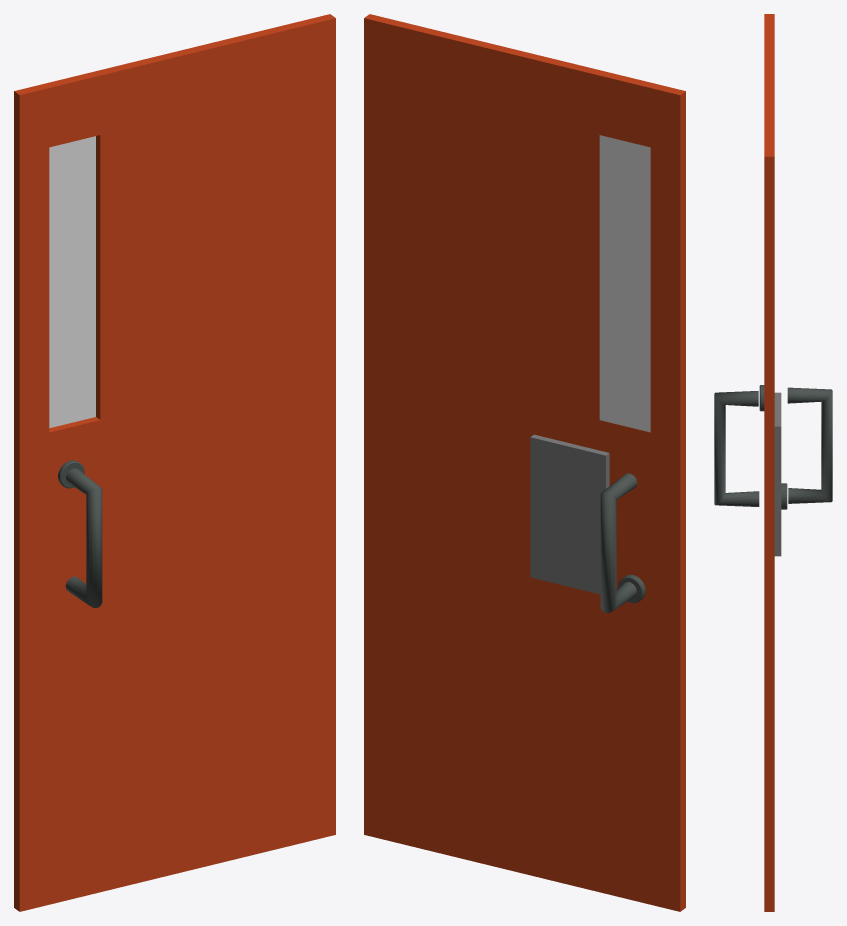
Rendered from EntryDoorLeft.fbx.
3 renders of one model, left to right at view 1: azimuth 30°, elevation 25°; view 2: azimuth 150°, elevation 25°; view 3: azimuth 270°, elevation 25°, orthographic. The views are drawn at different scales.
Parts seen in each view (by area): view 1: 門面1, 視窗1, 把手3; view 2: 門面1, 視窗1, 立牌1, 把手1; view 3: 門面1, 把手1, 把手3, 立牌1.
Boxes of the visible parts, left/top/right/bottom form: 門面1: left=14, top=14, right=335, bottom=911; 視窗1: left=49, top=136, right=95, bottom=428; 把手3: left=65, top=468, right=102, bottom=607; 門面1: left=364, top=14, right=685, bottom=911; 視窗1: left=599, top=135, right=650, bottom=432; 立牌1: left=530, top=434, right=609, bottom=594; 把手1: left=600, top=473, right=637, bottom=612; 門面1: left=764, top=14, right=774, bottom=911; 把手1: left=787, top=387, right=832, bottom=503; 把手3: left=714, top=391, right=759, bottom=506; 立牌1: left=774, top=392, right=781, bottom=556.
Bounding box in the file's own units: 83.96 × 29.37 × 207.
